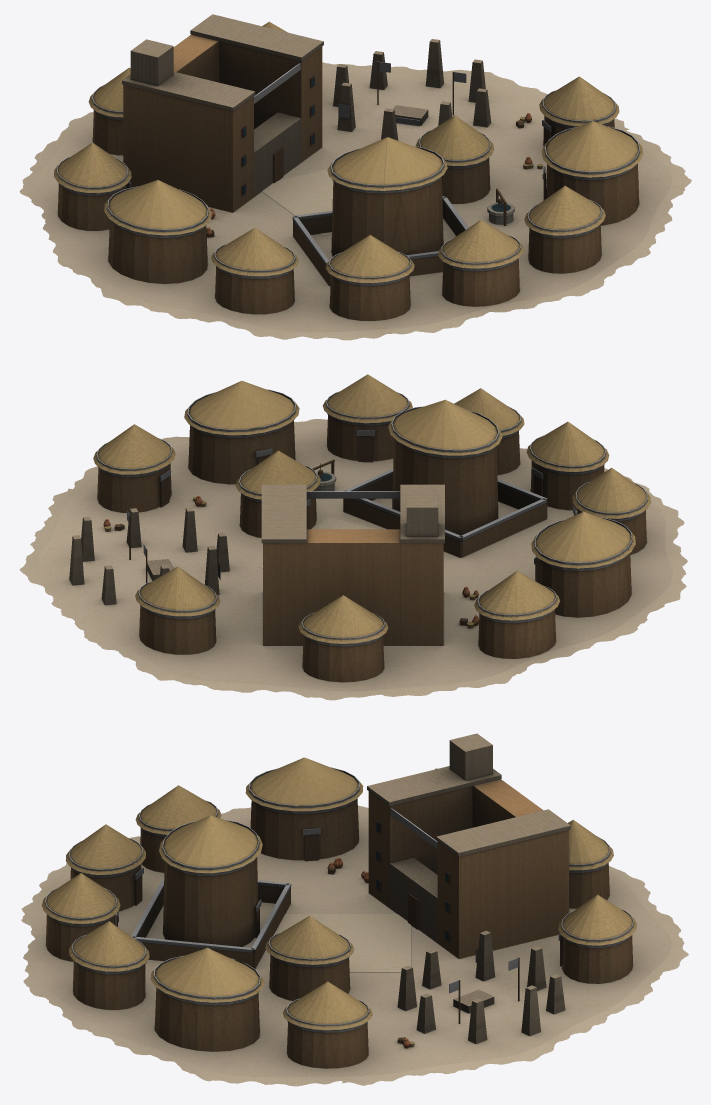
The model's file is bronze-town-medium-a-maghreb.glb.
3 renders of one model, top to bottom at view 1: azimuth 30°, elevation 25°; view 2: azimuth 150°, elevation 25°; view 3: azimuth 270°, elevation 25°, orthographic.
Visible parts, largest first — view 1: LOD0; view 2: LOD0; view 3: LOD0.
Part boxes in pixels (x1,y1,x2,y2): LOD0: (19,14,691,340); LOD0: (19,374,687,700); LOD0: (21,733,688,1086).
Size of what is drawn, in the model's own units: 5.93 by 1.34 by 5.98.
Materials: 3 (3 with a texture image).
